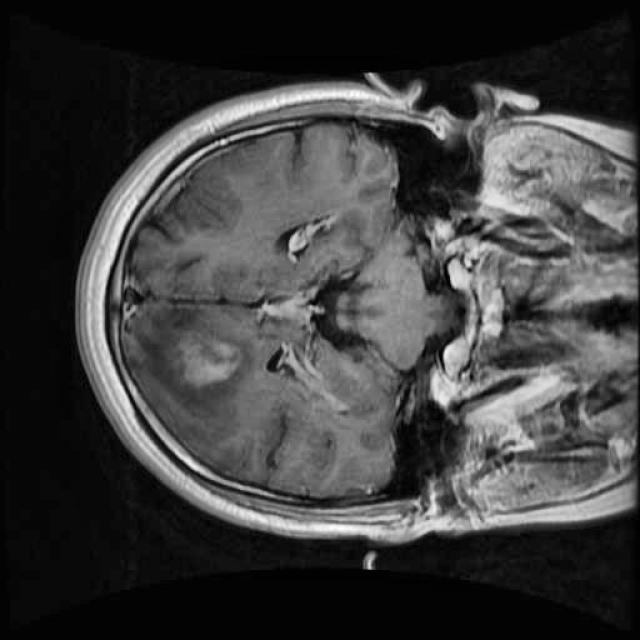Tumor: (138, 306, 280, 416)
